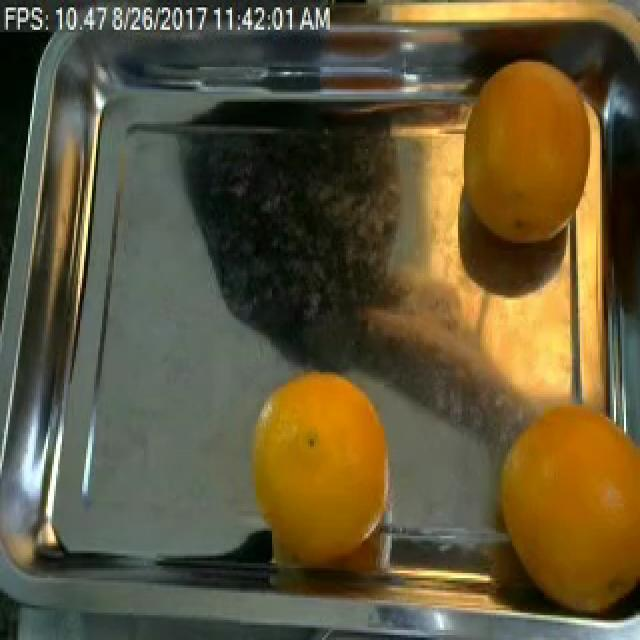Fruit: (230, 352, 396, 558)
